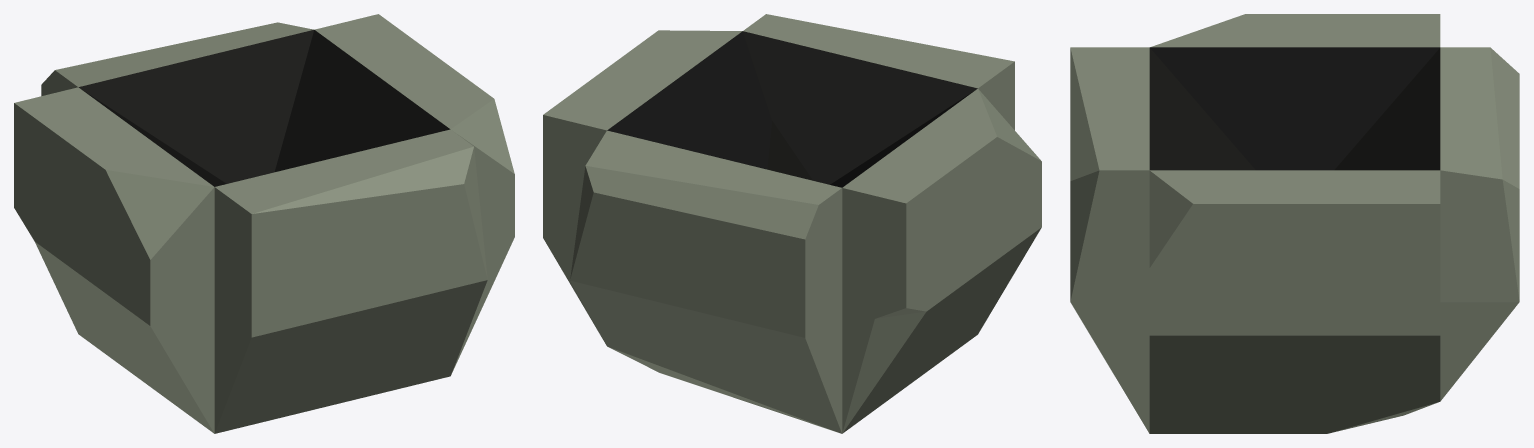
Rendered from torch_element_small.fbx.
3 views of the same model, side by side, from view 1: azimuth 30°, elevation 25°; view 2: azimuth 150°, elevation 25°; view 3: azimuth 270°, elevation 25° (orthographic). The views are drawn at different scales.
Visible parts, largest first — view 1: torch_element_small; view 2: torch_element_small; view 3: torch_element_small.
Part boxes in pixels (x1=…): torch_element_small: x1=14, y1=14, x2=514, y2=433; torch_element_small: x1=543, y1=14, x2=1041, y2=433; torch_element_small: x1=1070, y1=14, x2=1519, y2=433.
Bounding box in the file's own units: 77.21 × 50 × 77.21.
